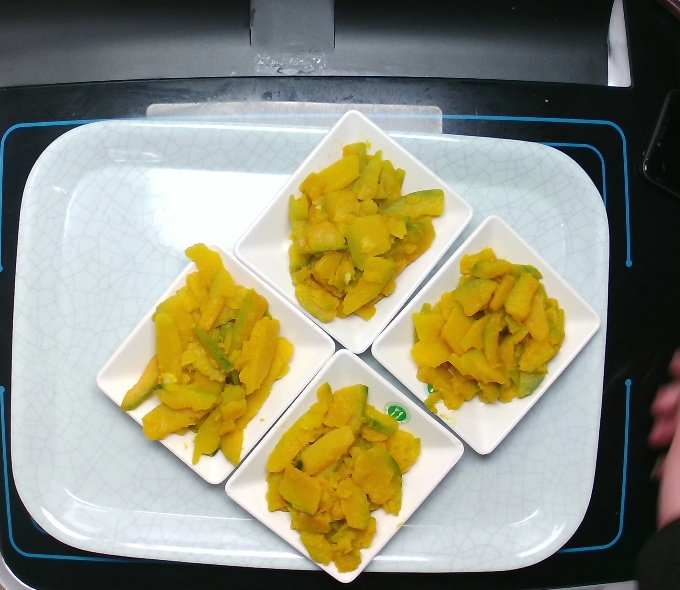wcq-NanGuaPian: (119, 240, 295, 467), (263, 380, 421, 573), (287, 141, 446, 323), (409, 247, 566, 412)
